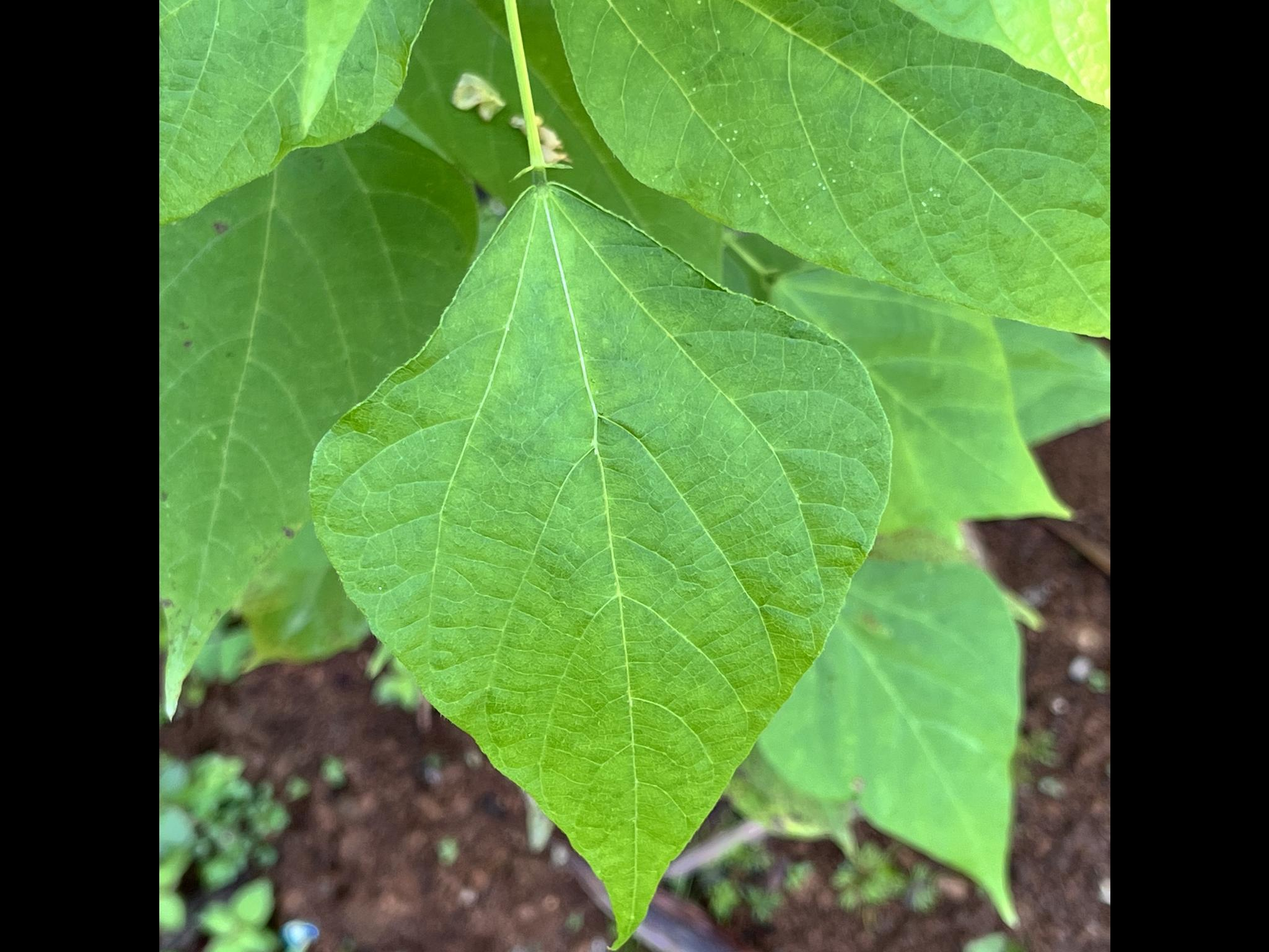sehat: (318, 183, 889, 949)
